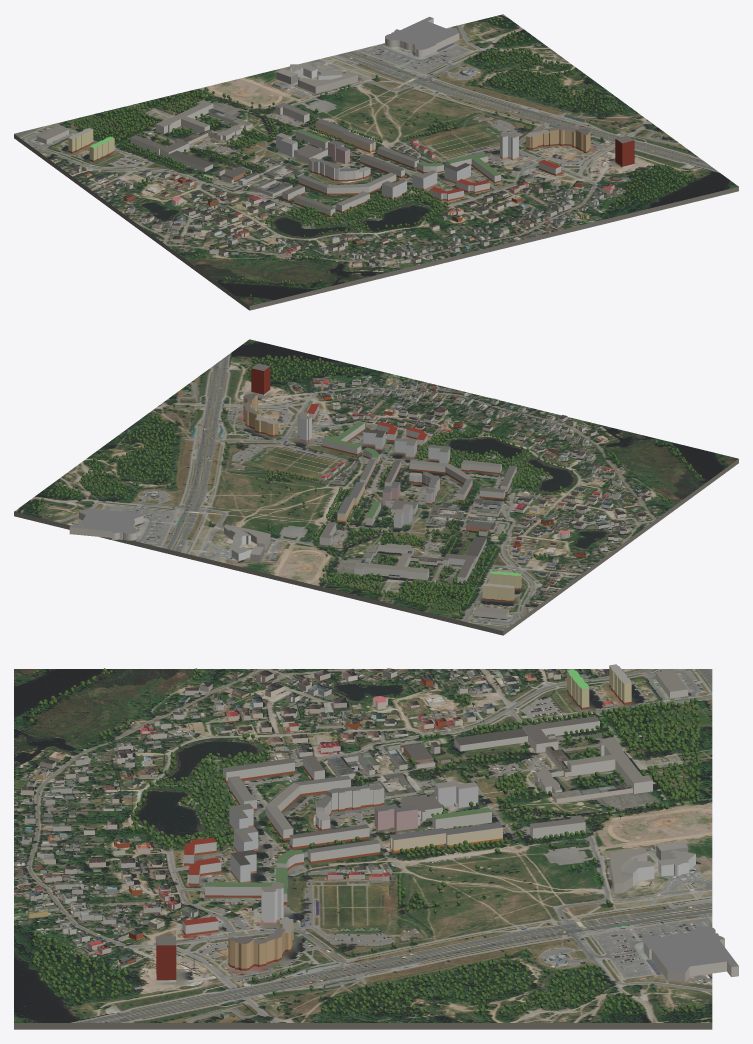
The model's file is studgorodok.glb.
3 views of the same model, one above another, from view 1: azimuth 30°, elevation 25°; view 2: azimuth 150°, elevation 25°; view 3: azimuth 270°, elevation 25° (orthographic). The views are drawn at different scales.
Visible parts, largest first — view 1: satellite, walls, tree, slab, trunk; view 2: satellite, walls, tree, slab, trunk; view 3: satellite, walls, tree, slab, trunk.
Part boxes in pixels (box(x1,y1,x2,y2)): satellite: box(14, 14, 738, 305); walls: box(37, 16, 662, 267); tree: box(66, 17, 694, 296); slab: box(14, 134, 738, 310); trunk: box(68, 22, 690, 297); satellite: box(14, 339, 738, 630); walls: box(69, 363, 657, 618); tree: box(32, 354, 723, 613); slab: box(14, 459, 738, 635); trunk: box(34, 359, 722, 614); satellite: box(14, 668, 712, 1022); walls: box(21, 664, 738, 1018); tree: box(28, 668, 700, 1015); slab: box(14, 1023, 712, 1029); trunk: box(31, 673, 698, 1016).
Bounding box in the file's own units: 1130 × 65.02 × 978.
Materials: 5 (1 with a texture image).
